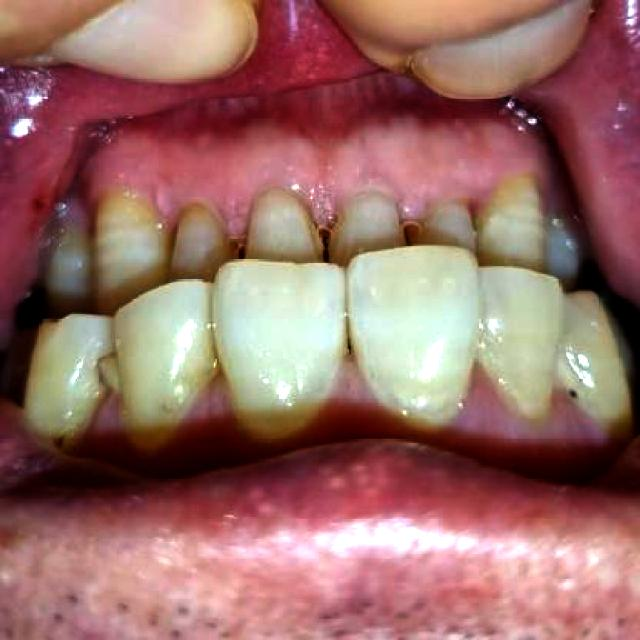Plaque: (41, 422, 80, 456), (563, 383, 585, 405)
